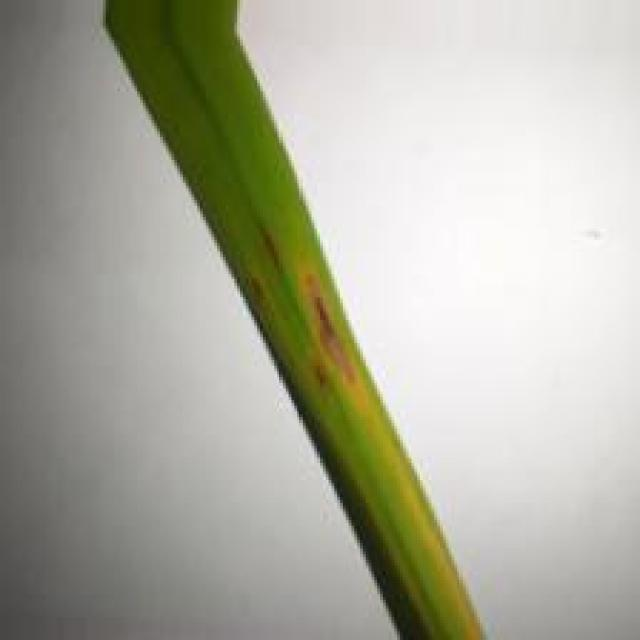Brown_Spot: (298, 275, 360, 392), (253, 225, 287, 288), (303, 351, 333, 398)
